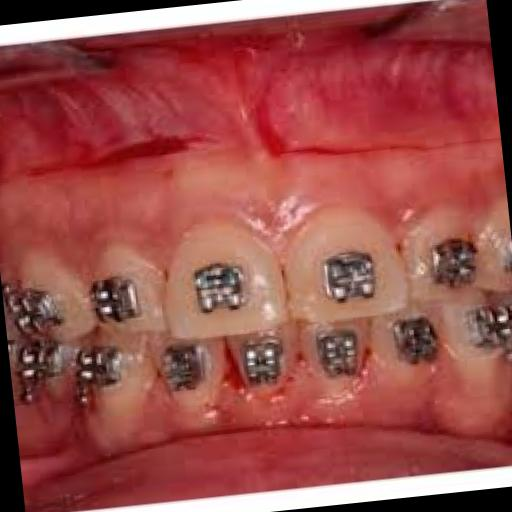correct_brace: (180, 254, 258, 318), (314, 243, 390, 308)
